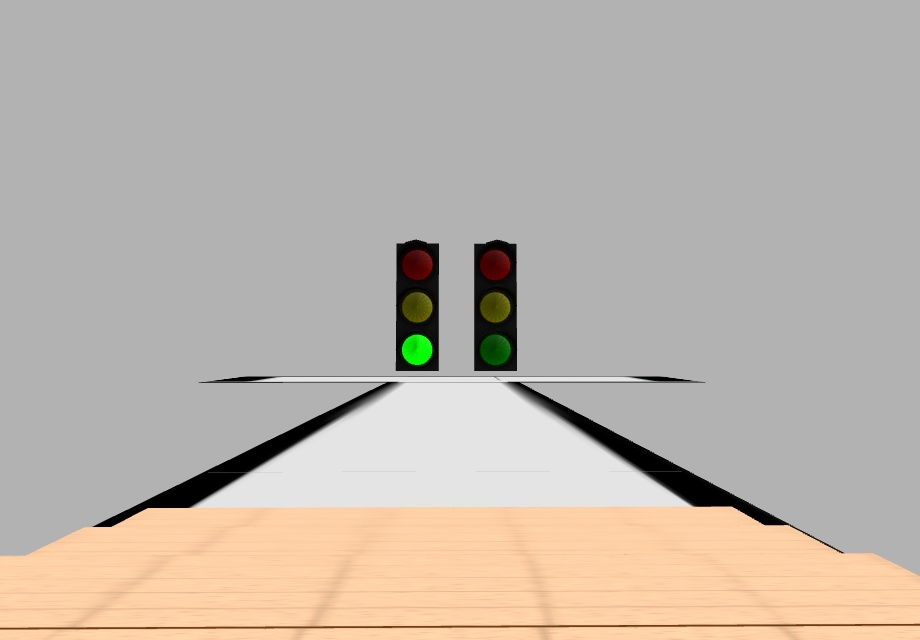green_off: (478, 334, 511, 366)
green_on: (399, 332, 435, 368)
stairs: (3, 505, 920, 640)
